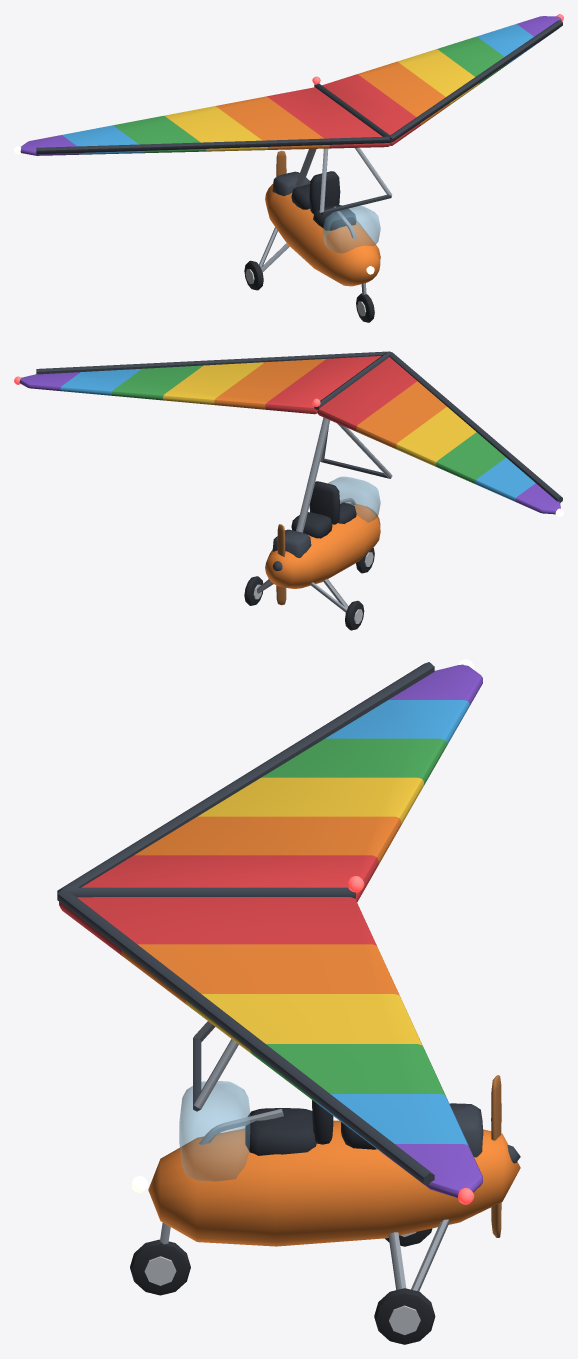
File: ultraleve_trike_arco_iris.glb
3 renders of one model, top to bottom at view 1: azimuth 30°, elevation 25°; view 2: azimuth 150°, elevation 25°; view 3: azimuth 270°, elevation 25°, orthographic. The views are drawn at different scales.
Visible parts, largest first — view 1: ultraleve_trike_arco_iris, rodas_tras, roda_frente; view 2: ultraleve_trike_arco_iris, rodas_tras, helice; view 3: ultraleve_trike_arco_iris, rodas_tras, roda_frente, helice.
Part boxes in pixels (x1,y1,x2,y2): ultraleve_trike_arco_iris: [14, 14, 563, 295]; rodas_tras: [244, 260, 263, 290]; roda_frente: [356, 293, 374, 322]; ultraleve_trike_arco_iris: [14, 351, 563, 612]; rodas_tras: [244, 576, 364, 630]; helice: [272, 524, 286, 605]; ultraleve_trike_arco_iris: [57, 659, 520, 1291]; rodas_tras: [374, 1228, 435, 1344]; roda_frente: [130, 1239, 190, 1295]; helice: [491, 1075, 520, 1237].
Bounding box in the file's own units: 10.38 × 3.78 × 3.8.
Materials: 4 (1 with a texture image).
